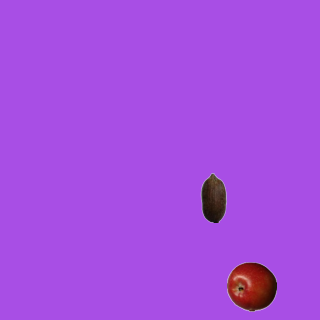Apple Braeburn: (226, 261, 276, 311)
Nut Pecan: (188, 172, 238, 222)
